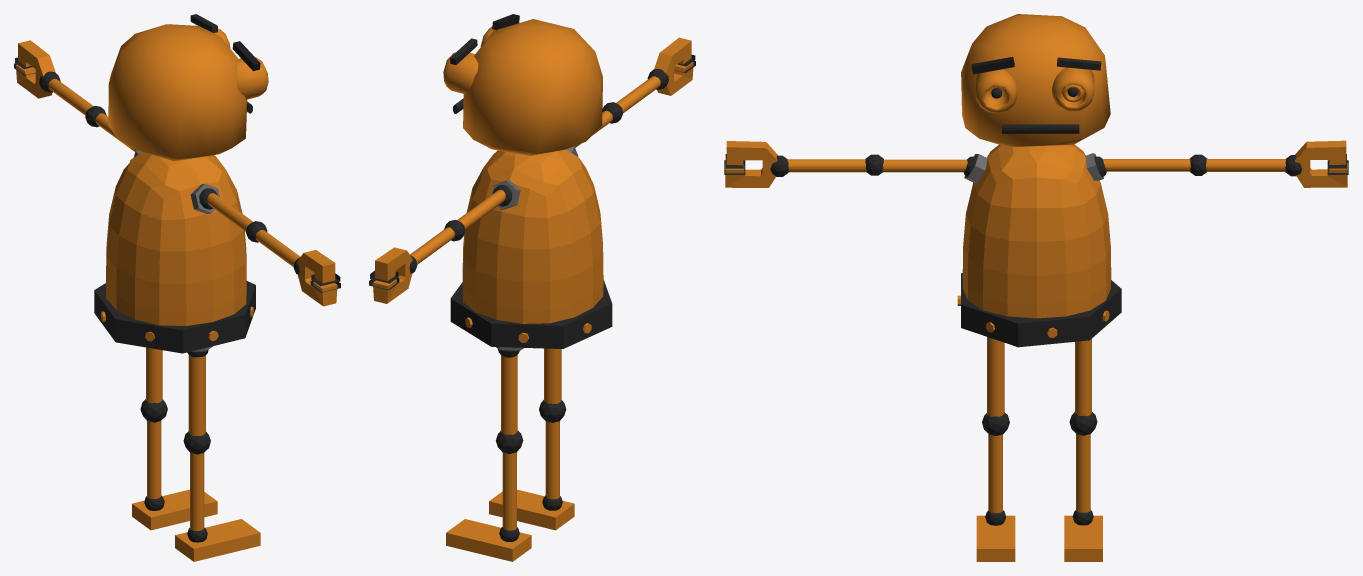
Rendered from robot_ebeishi_sex.fbx.
3 renders of one model, left to right at view 1: azimuth 30°, elevation 25°; view 2: azimuth 150°, elevation 25°; view 3: azimuth 270°, elevation 25°, orthographic.
Parts seen in each view (by area): view 1: Cube.002, Cube, Icosphere.009, Icosphere.012, Icosphere, Icosphere.001; view 2: Cube.002, Cube, Icosphere.012, Icosphere.009, Icosphere.001, Icosphere; view 3: Cube.002, Cube, Icosphere, Icosphere.001, Icosphere.009, Icosphere.012.
Part boxes in pixels (left/top/right/bottom): Cube.002: left=94, top=150, right=255, bottom=353; Cube: left=108, top=14, right=268, bottom=161; Icosphere.009: left=175, top=350, right=260, bottom=561; Icosphere.012: left=132, top=347, right=217, bottom=530; Icosphere: left=199, top=188, right=340, bottom=306; Icosphere.001: left=14, top=40, right=135, bottom=151; Cube.002: left=450, top=146, right=612, bottom=350; Cube: left=443, top=14, right=602, bottom=155; Icosphere.012: left=446, top=349, right=531, bottom=561; Icosphere.009: left=489, top=348, right=574, bottom=530; Icosphere.001: left=369, top=185, right=512, bottom=303; Icosphere: left=574, top=37, right=695, bottom=147; Cube.002: left=957, top=144, right=1121, bottom=347; Cube: left=961, top=14, right=1110, bottom=147; Icosphere: left=724, top=141, right=976, bottom=187; Icosphere.001: left=1094, top=140, right=1348, bottom=187; Icosphere.009: left=976, top=337, right=1015, bottom=561; Icosphere.012: left=1064, top=339, right=1102, bottom=561.
Size of the model in its own units: 263 by 904 by 997.
